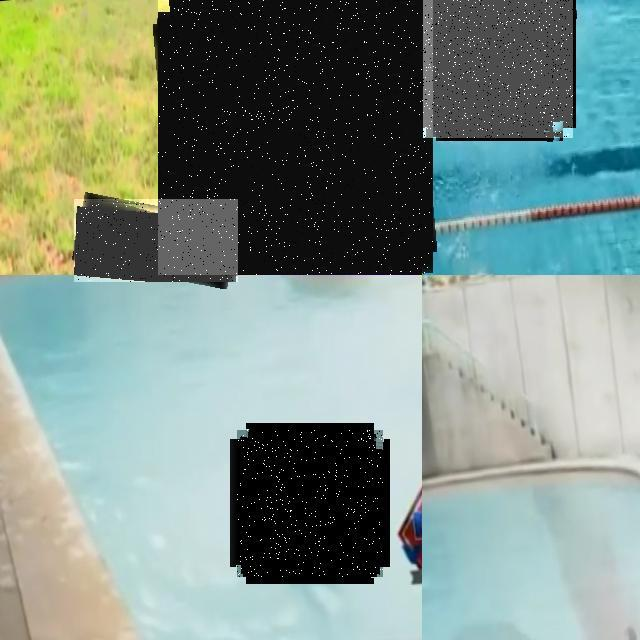3: (237, 430, 383, 577)
6: (423, 0, 573, 138)
drowning: (158, 0, 433, 275), (74, 199, 238, 282)
